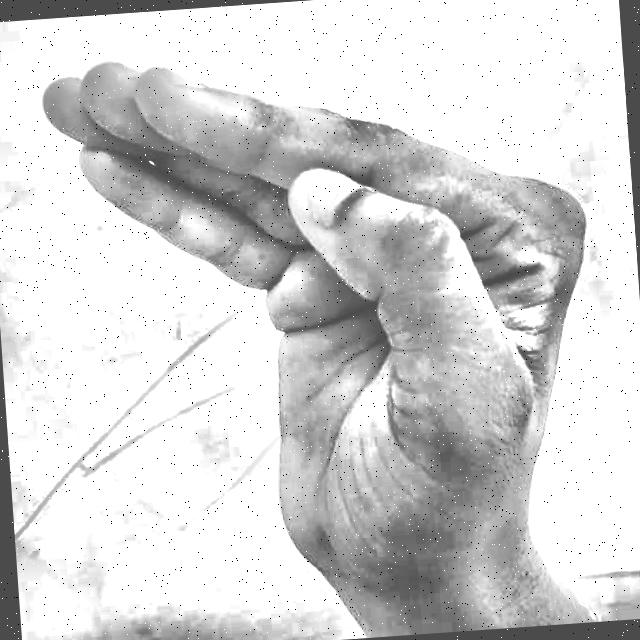Ga: (22, 8, 635, 610)
